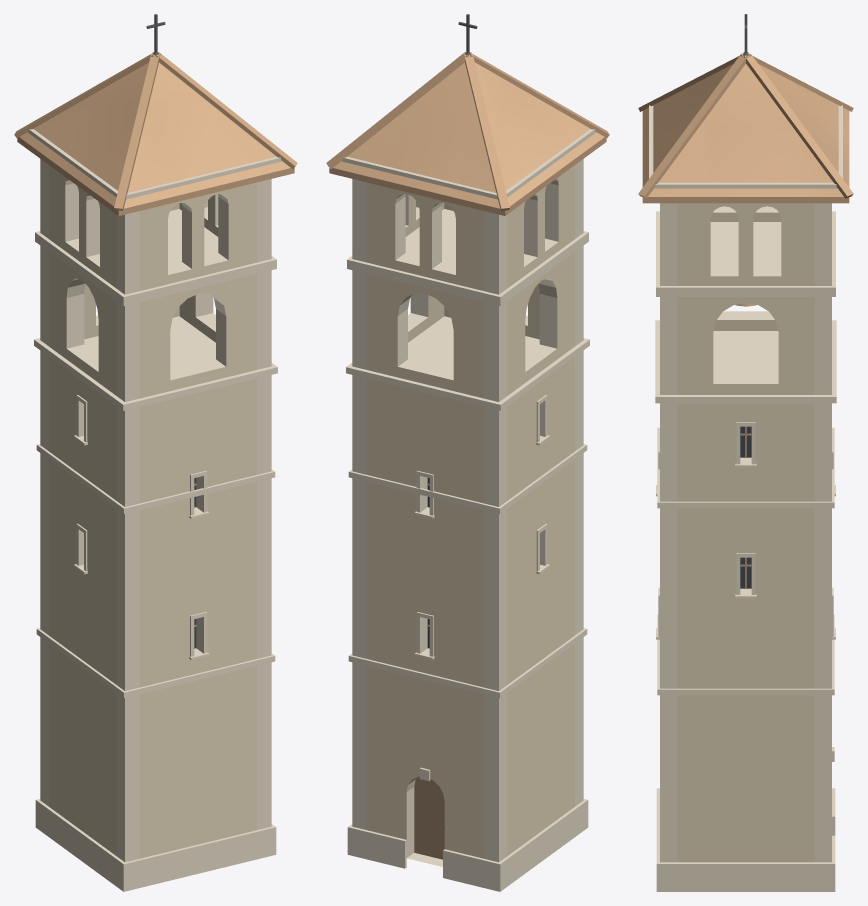
Rendered from SM_BM_BH_BellTower.glb.
The picture shows the model from 3 angles, left to right: view 1: azimuth 30°, elevation 25°; view 2: azimuth 150°, elevation 25°; view 3: azimuth 270°, elevation 25°; orthographic projection.
Parts seen in each view (by area): view 1: SM_BM_BH_BellTower; view 2: SM_BM_BH_BellTower; view 3: SM_BM_BH_BellTower.
Part boxes in pixels (x1,y1,x2,y2): SM_BM_BH_BellTower: [14, 14, 297, 891]; SM_BM_BH_BellTower: [326, 14, 609, 891]; SM_BM_BH_BellTower: [638, 14, 853, 891].
Size of the model in its own units: 6.27 by 26.94 by 6.27.
